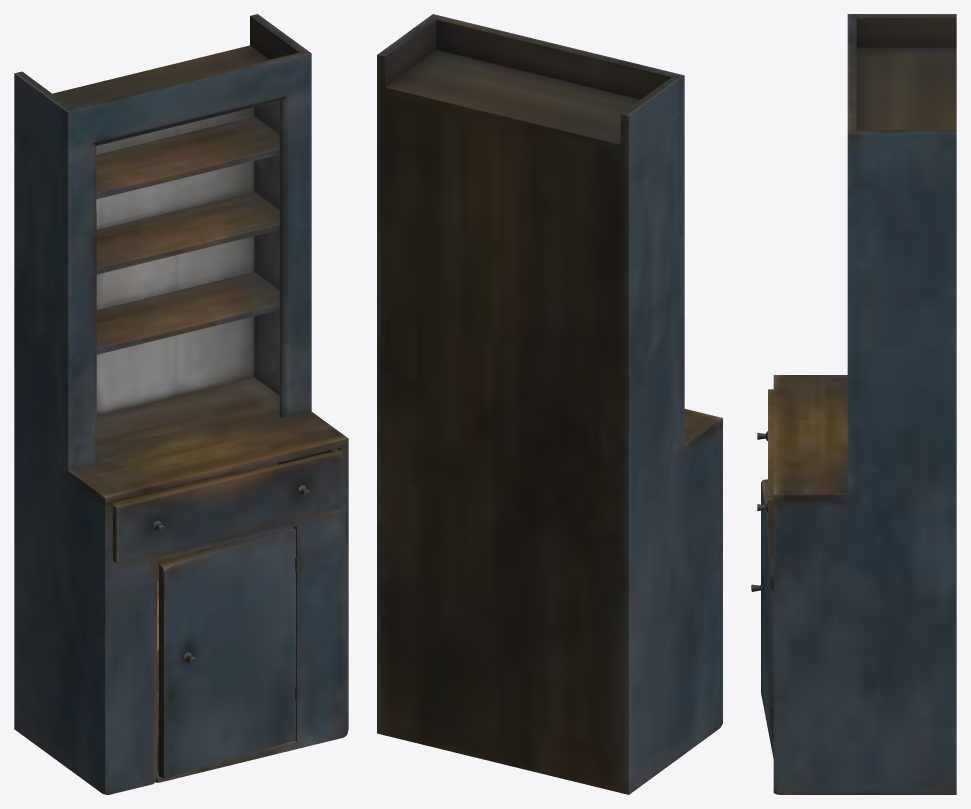
3 views of the same model, side by side, from view 1: azimuth 30°, elevation 25°; view 2: azimuth 150°, elevation 25°; view 3: azimuth 270°, elevation 25° (orthographic). The views are drawn at different scales.
Parts seen in each view (by area): view 1: painted_wooden_cabinet_02, painted_wooden_cabinet_02_door, painted_wooden_cabinet_02_drawer; view 2: painted_wooden_cabinet_02; view 3: painted_wooden_cabinet_02, painted_wooden_cabinet_02_door, painted_wooden_cabinet_02_drawer.
Part boxes in pixels (x1=…): painted_wooden_cabinet_02: x1=14, y1=14, x2=348, y2=794; painted_wooden_cabinet_02_door: x1=158, y1=527, x2=295, y2=778; painted_wooden_cabinet_02_drawer: x1=113, y1=448, x2=342, y2=563; painted_wooden_cabinet_02: x1=377, y1=14, x2=722, y2=794; painted_wooden_cabinet_02: x1=770, y1=14, x2=956, y2=794; painted_wooden_cabinet_02_door: x1=751, y1=479, x2=773, y2=758; painted_wooden_cabinet_02_drawer: x1=757, y1=389, x2=773, y2=556.
Bounding box in the file's own units: 0.9969 × 2.57 × 0.7223.
Materials: 1 (1 with a texture image).
